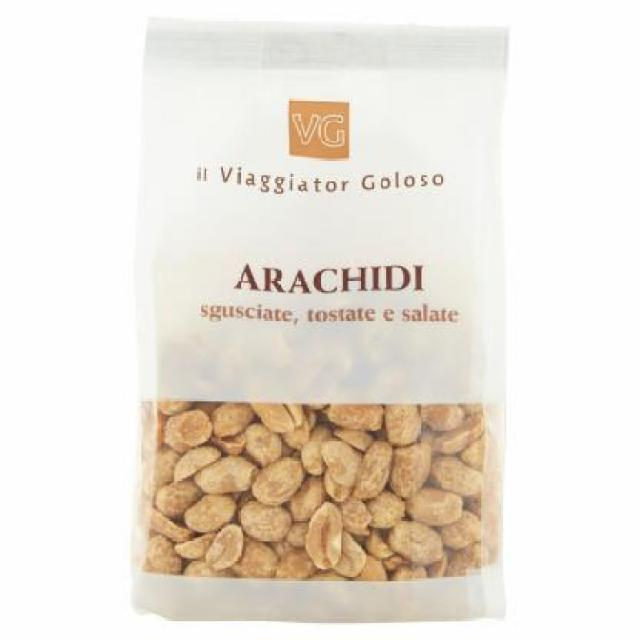Frutta secca: (162, 412, 474, 563)
